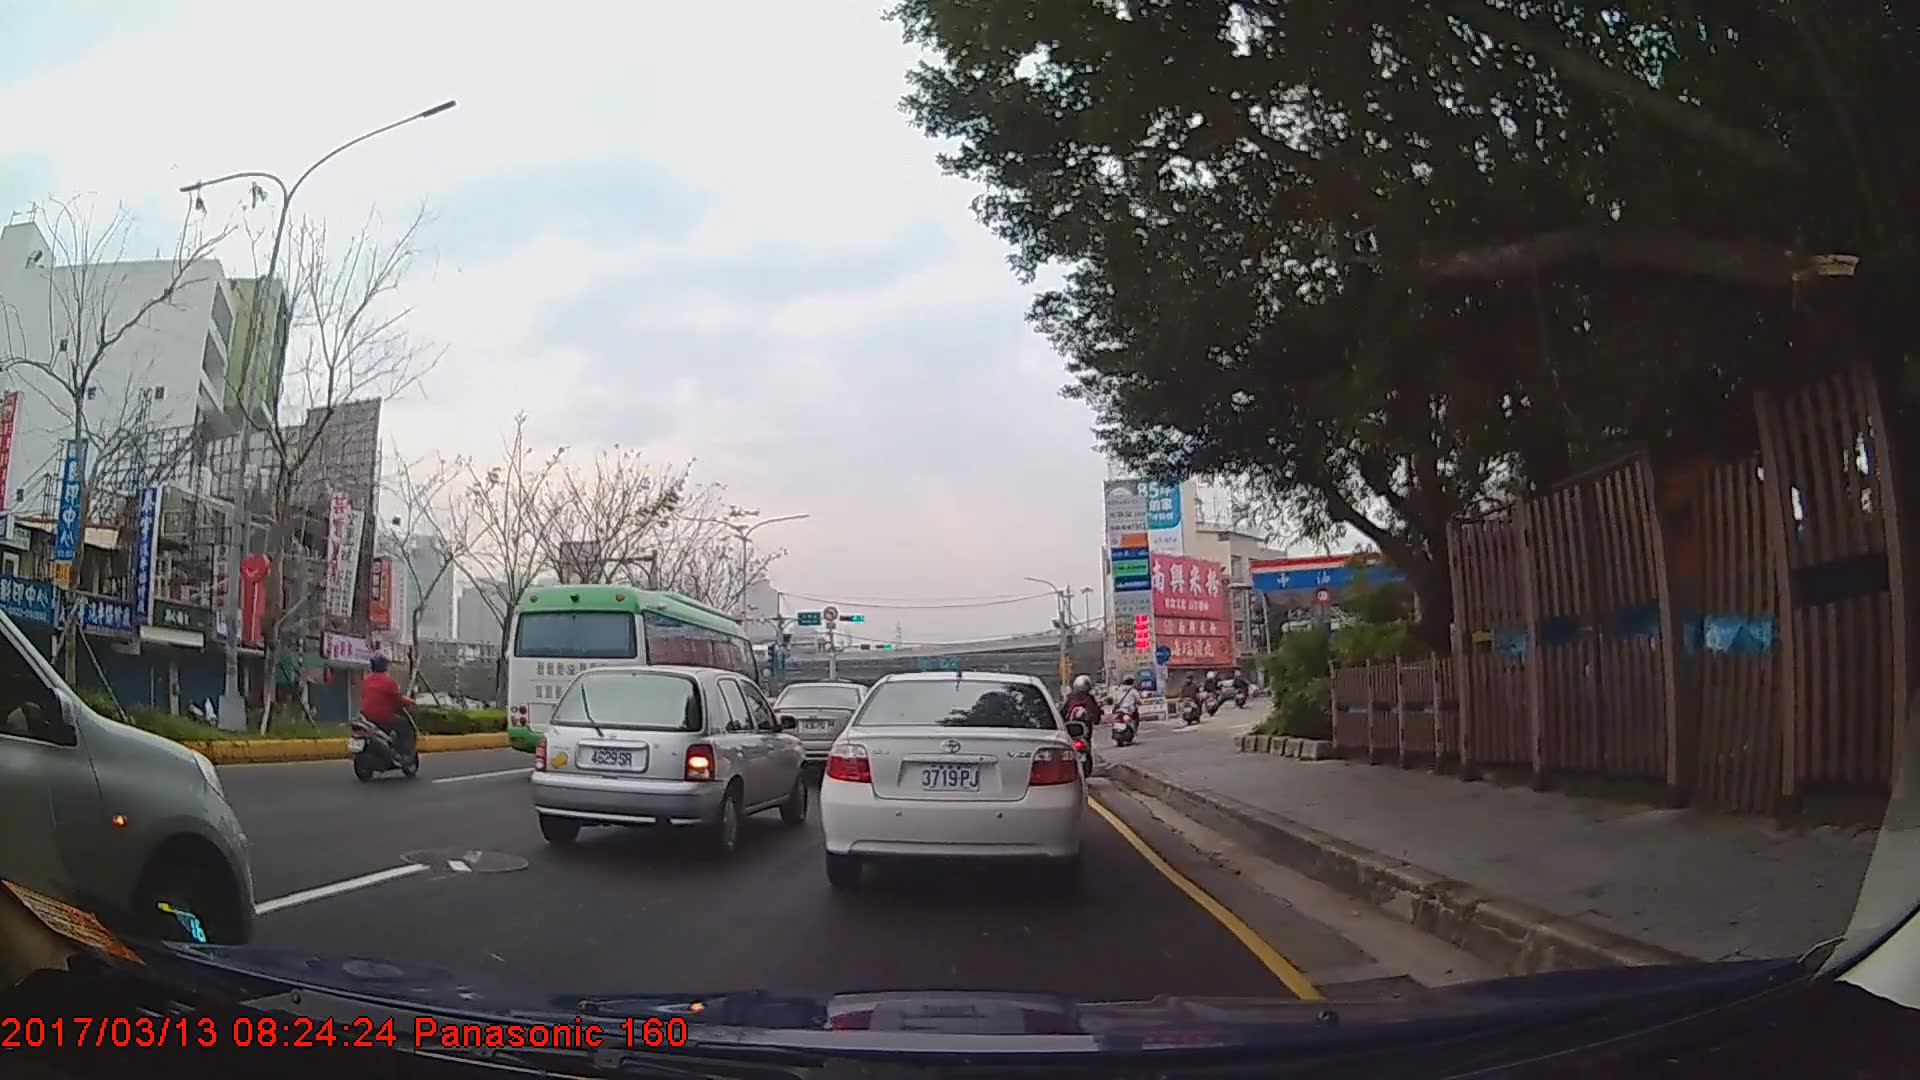rider: (346, 649, 421, 789), (1064, 673, 1107, 781), (1112, 674, 1144, 750), (1182, 670, 1202, 724)
vehicle: (0, 603, 255, 968), (821, 667, 1087, 882), (502, 580, 766, 786), (526, 661, 808, 851), (765, 680, 883, 773)
